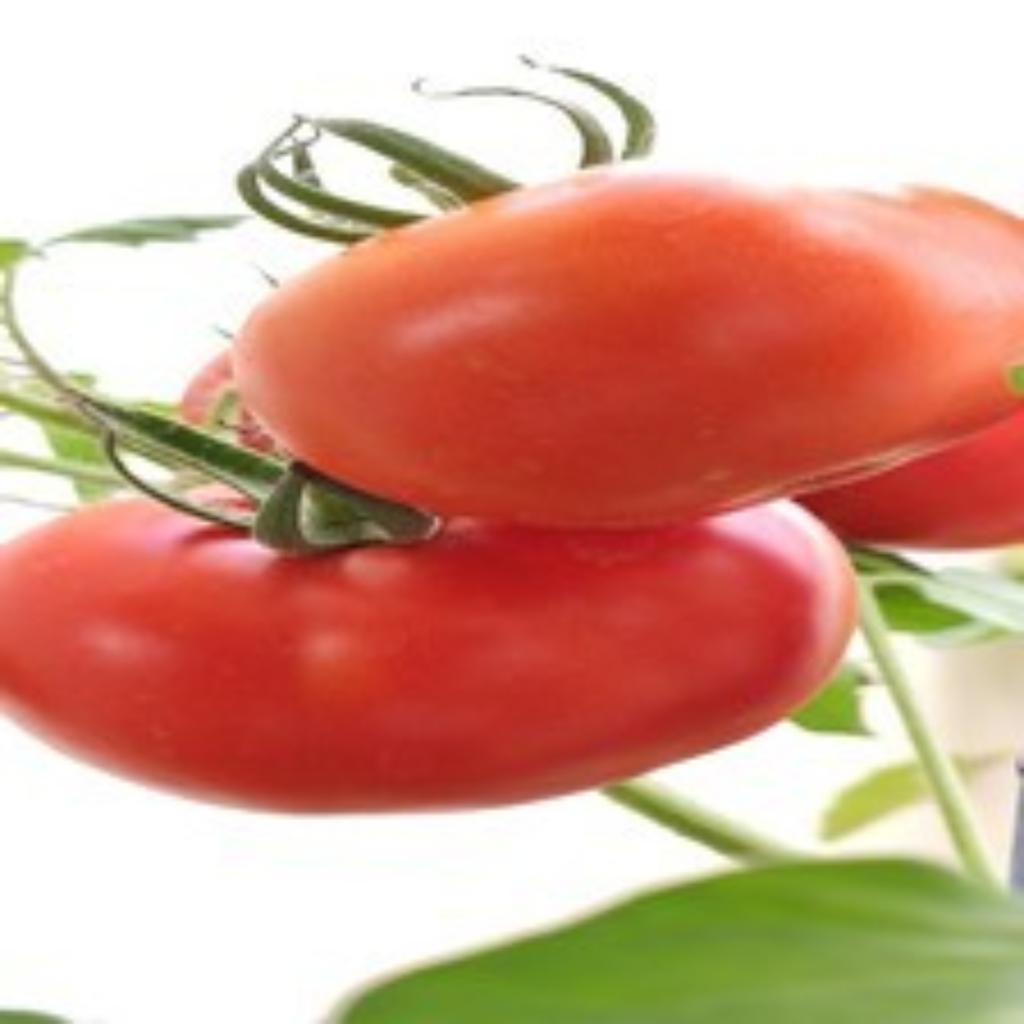tomato: (234, 168, 1024, 525), (0, 500, 856, 811)
